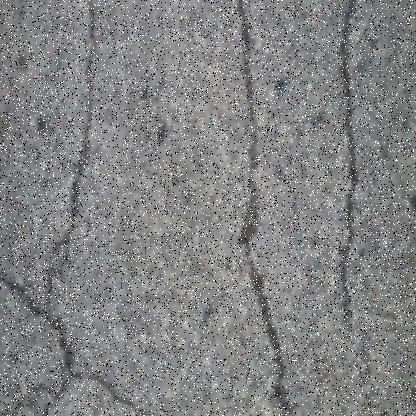Cracks: (0, 0, 150, 416), (234, 0, 294, 416), (339, 0, 368, 336)
